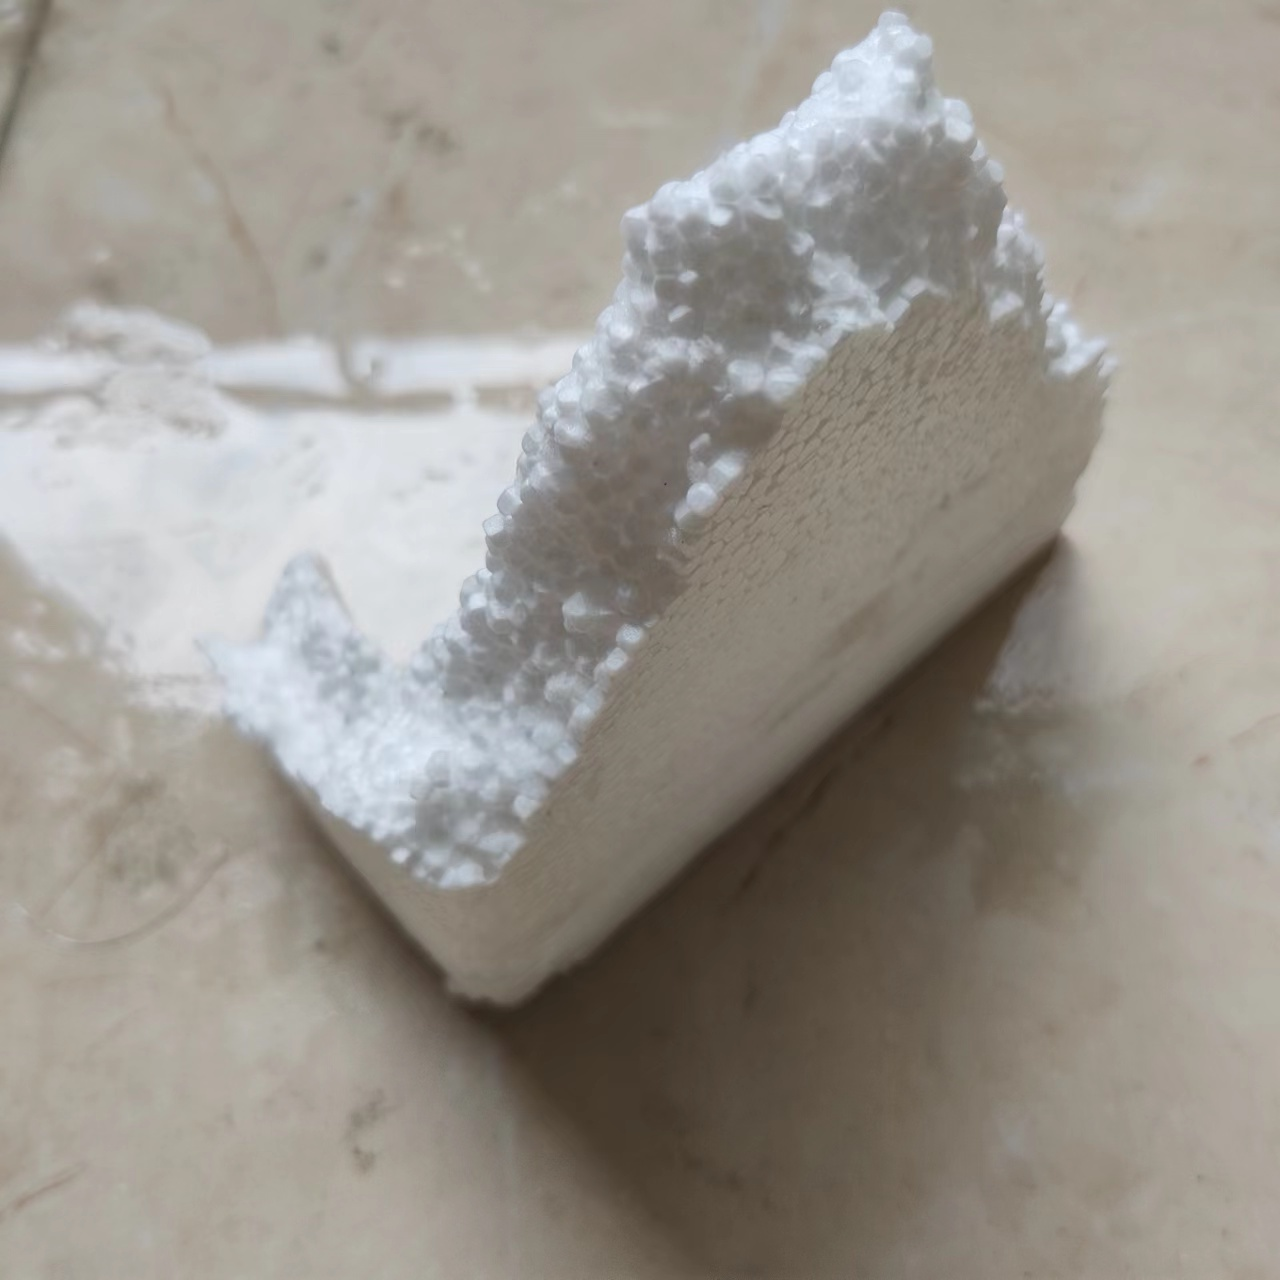5/可回收垃圾/泡沫: (192, 8, 1114, 1013)
